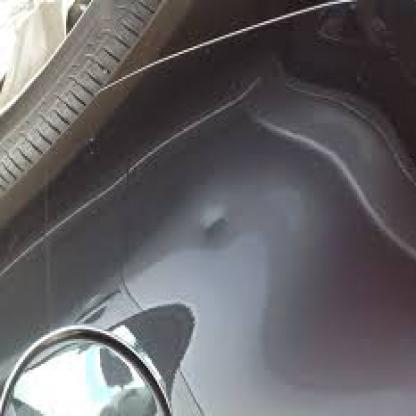dent: (184, 207, 246, 253)
